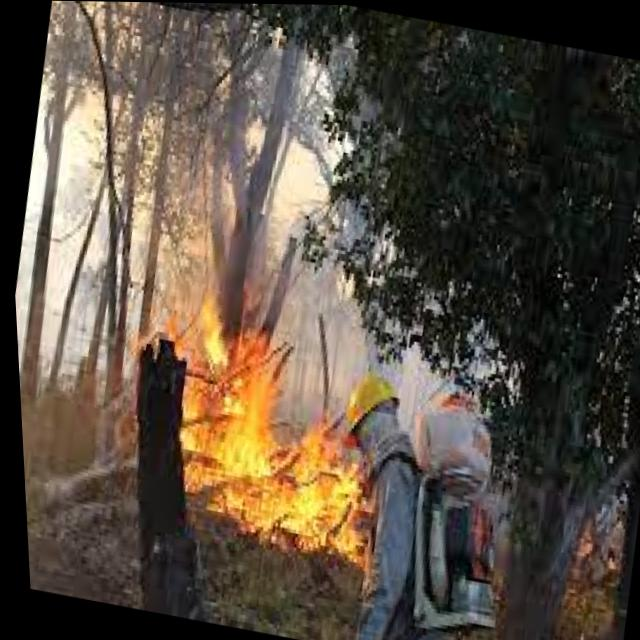Fire: (82, 259, 418, 584)
